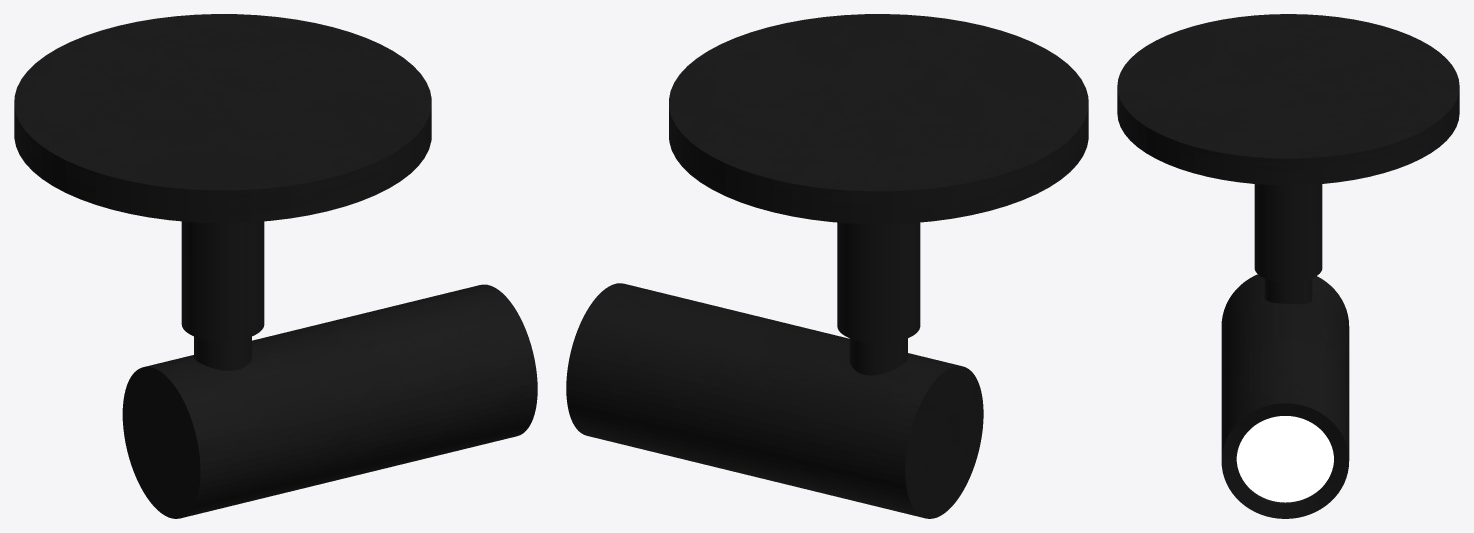
File: LightFixture.glb
The picture shows the model from 3 angles, left to right: view 1: azimuth 30°, elevation 25°; view 2: azimuth 150°, elevation 25°; view 3: azimuth 270°, elevation 25°; orthographic projection. The views are drawn at different scales.
Visible parts, largest first — view 1: Base, Pivot; view 2: Base, Pivot; view 3: Base, Pivot, Bulb.
Boxes of the visible parts, x1,y1,x2,y2 form: Base: [14, 14, 431, 370]; Pivot: [122, 284, 537, 518]; Base: [669, 14, 1088, 375]; Pivot: [566, 283, 983, 518]; Base: [1117, 14, 1459, 304]; Pivot: [1221, 274, 1349, 518]; Bulb: [1236, 416, 1333, 502].
Bounding box in the file's own units: 2.06 × 1.7 × 1.64.
2 materials, 1 textured.
